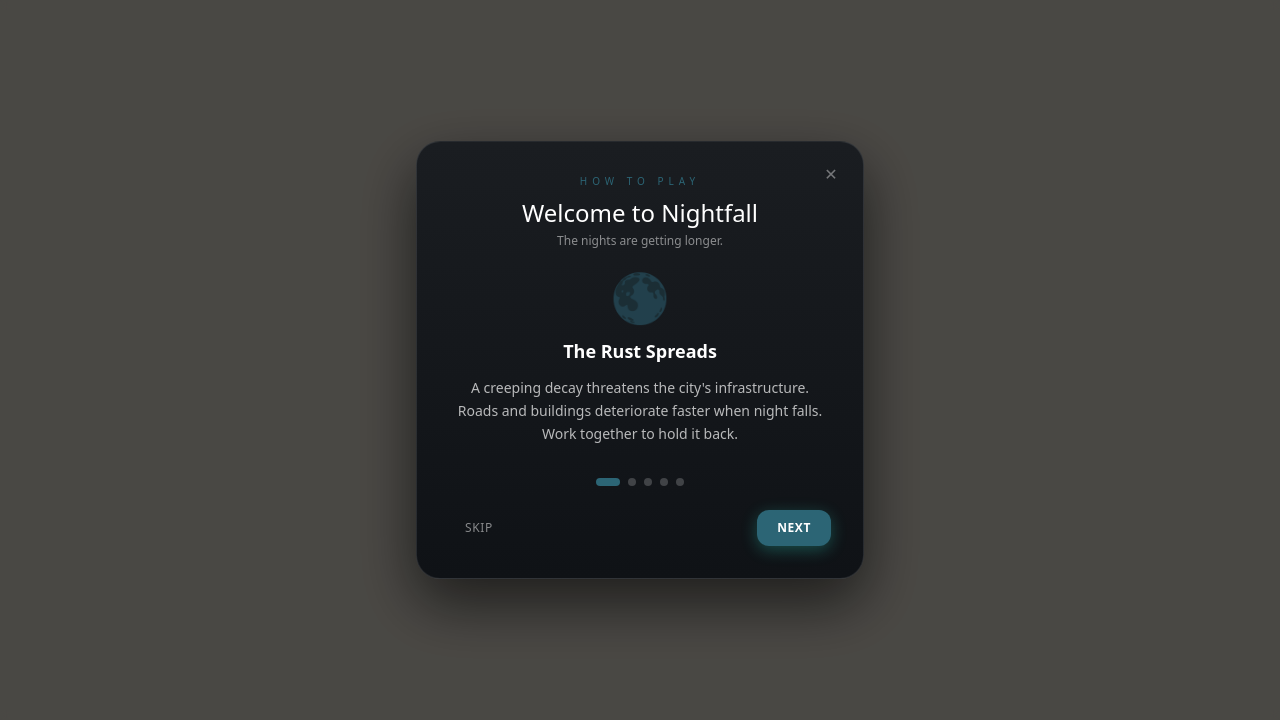
it: OnboardingOverlay › step navigation › advances to next step when Next is clicked
Click the button "Next" at (794, 528), box [757, 510, 831, 546]
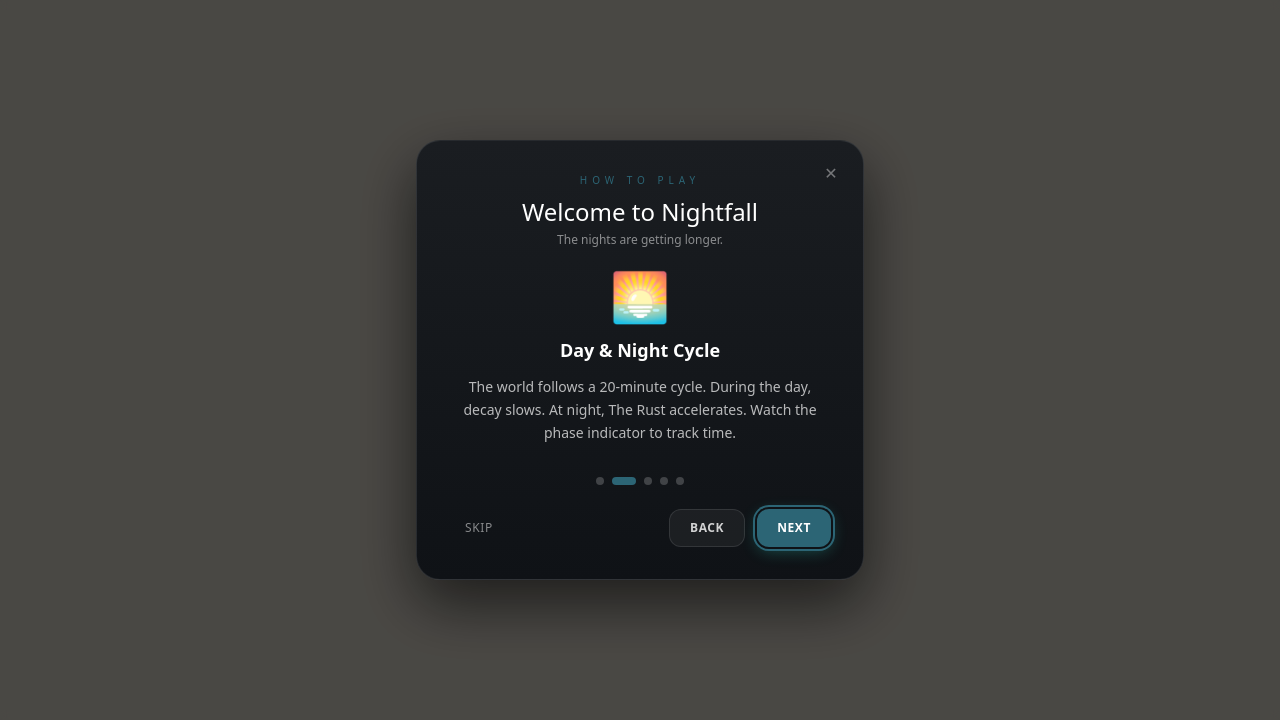
Expected: the heading "Day & Night Cycle" is shown, [560, 338, 720, 362]
